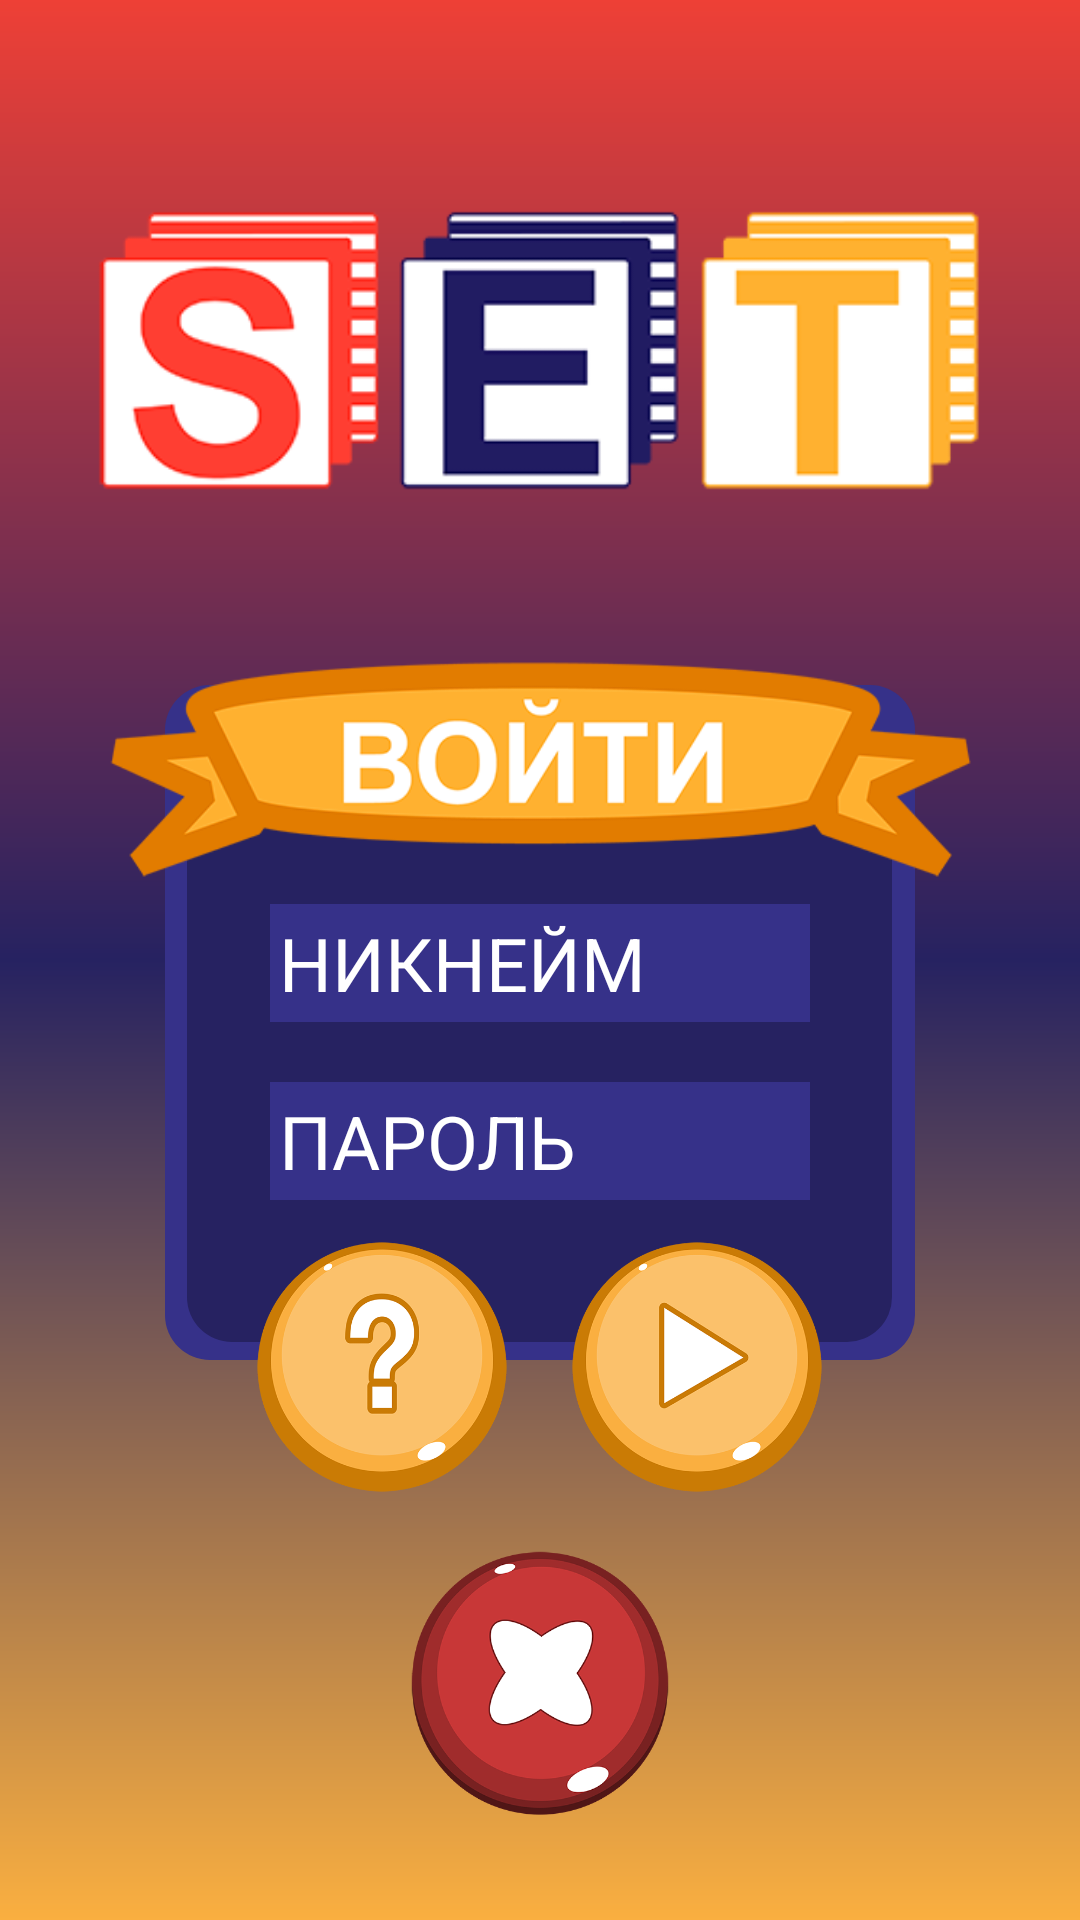

Where to tap for icons on this 1080×1920 app screen, as point (x, y):
exitbut: point (540, 1680)
playbut: point (697, 1367)
rulebut: point (382, 1367)
